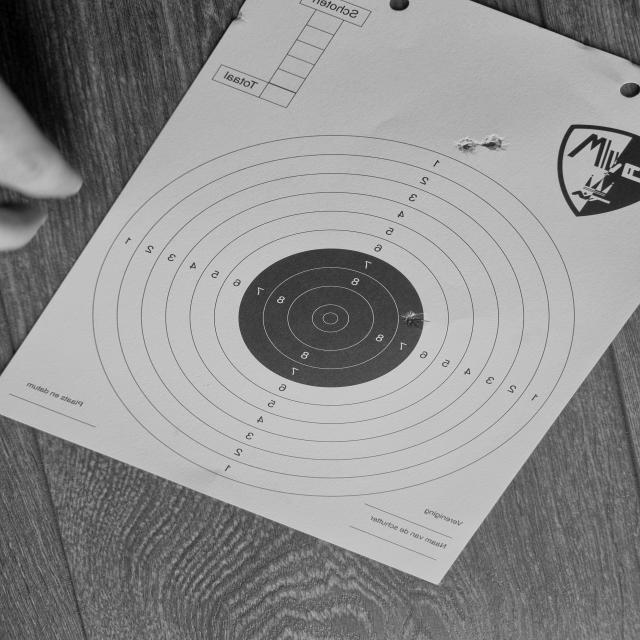0: (482, 136, 508, 152), (457, 140, 480, 154)
7: (399, 311, 430, 329)
Target: (89, 135, 577, 497)
black_contour: (240, 248, 426, 388)
